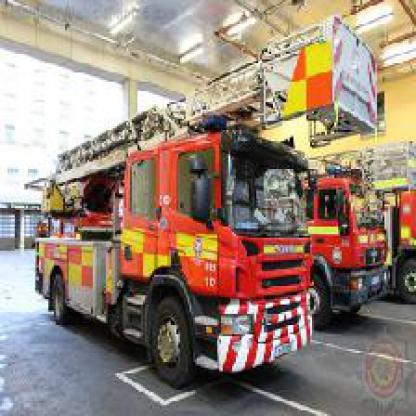emergency: (29, 14, 380, 390), (295, 139, 394, 331), (359, 136, 414, 316)
